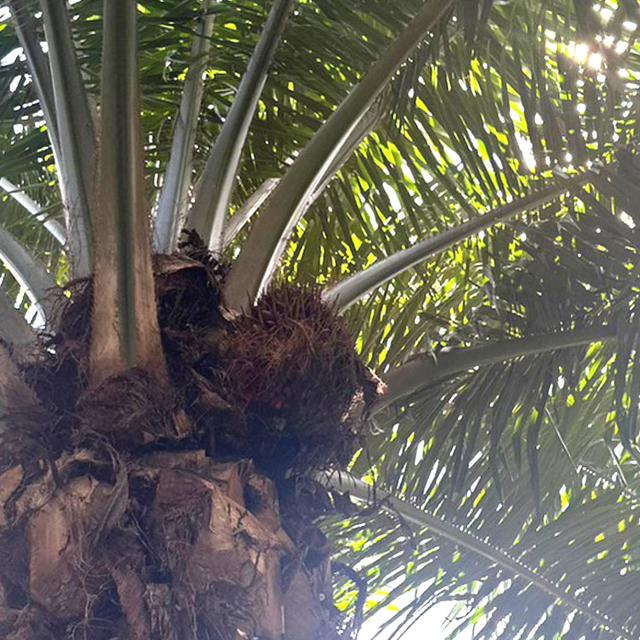ripe: (218, 277, 366, 431)
